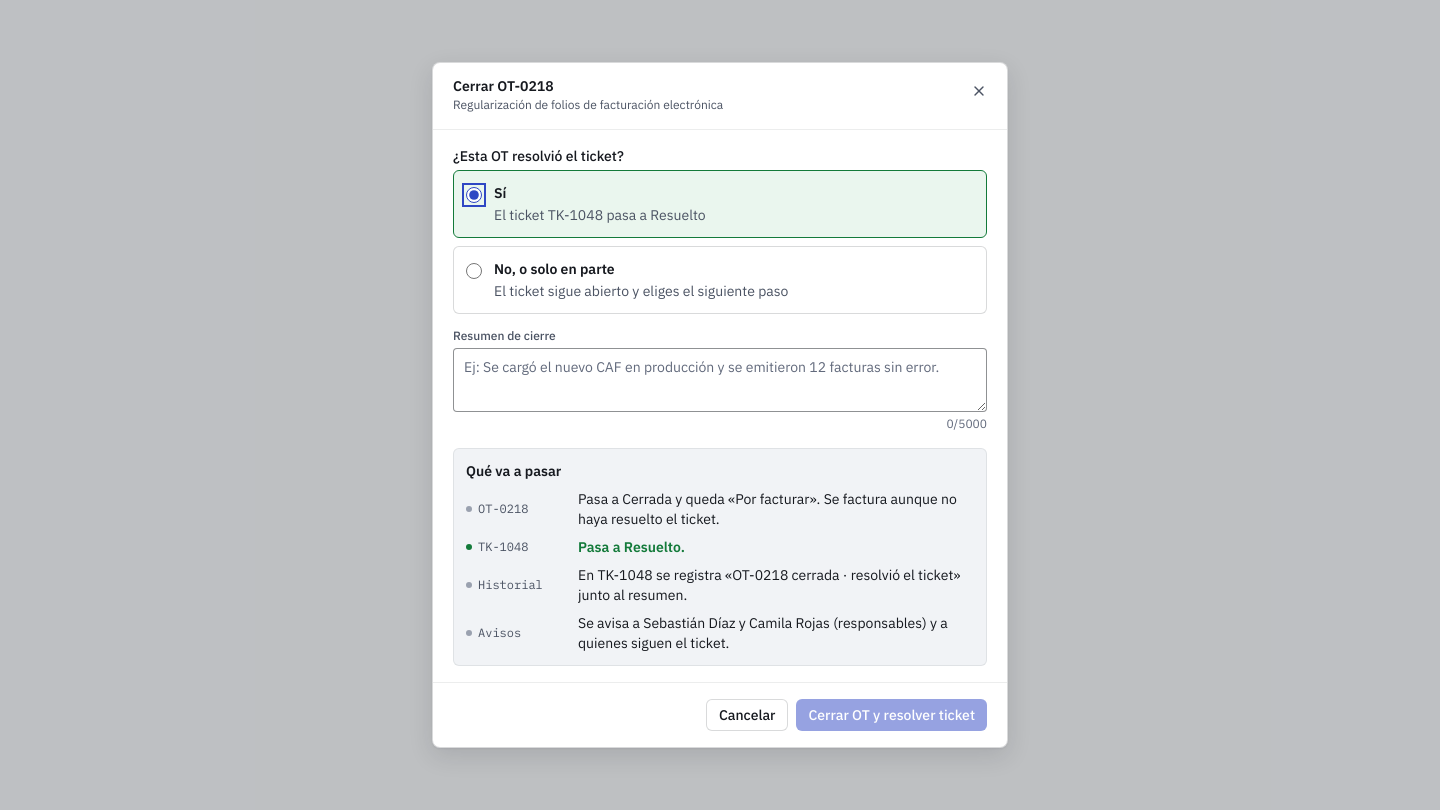
Test: "No" muestra el siguiente paso y el responsable; "Qué va a pasar" cambia con la opción
The image size is (1440, 810).
Click the radio button labelled "No, o solo en parte" at (474, 271), box [466,263,482,279]
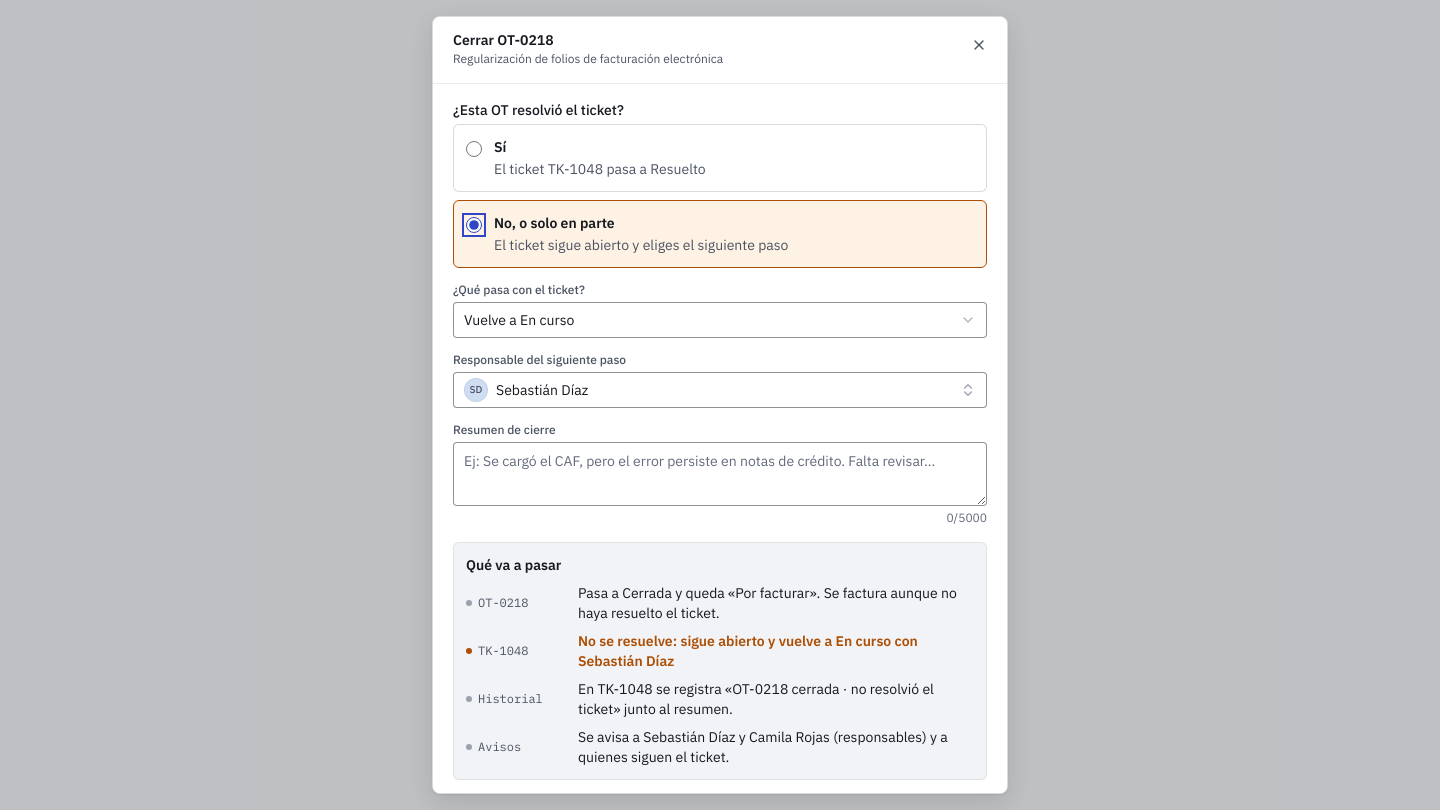
Expected: the dropdown named "¿Qué pasa con el ticket?" is shown
Expected: the dropdown named "Responsable del siguiente paso: Sebastián Díaz" is shown, [453,372,987,408]
Expected: the text "sigue abierto y vuelve a En curso con Sebastián Díaz" is shown, [578,632,918,670]
Click the dropdown named "¿Qué pasa con el ticket?" at (519, 320), box [453,302,987,338]
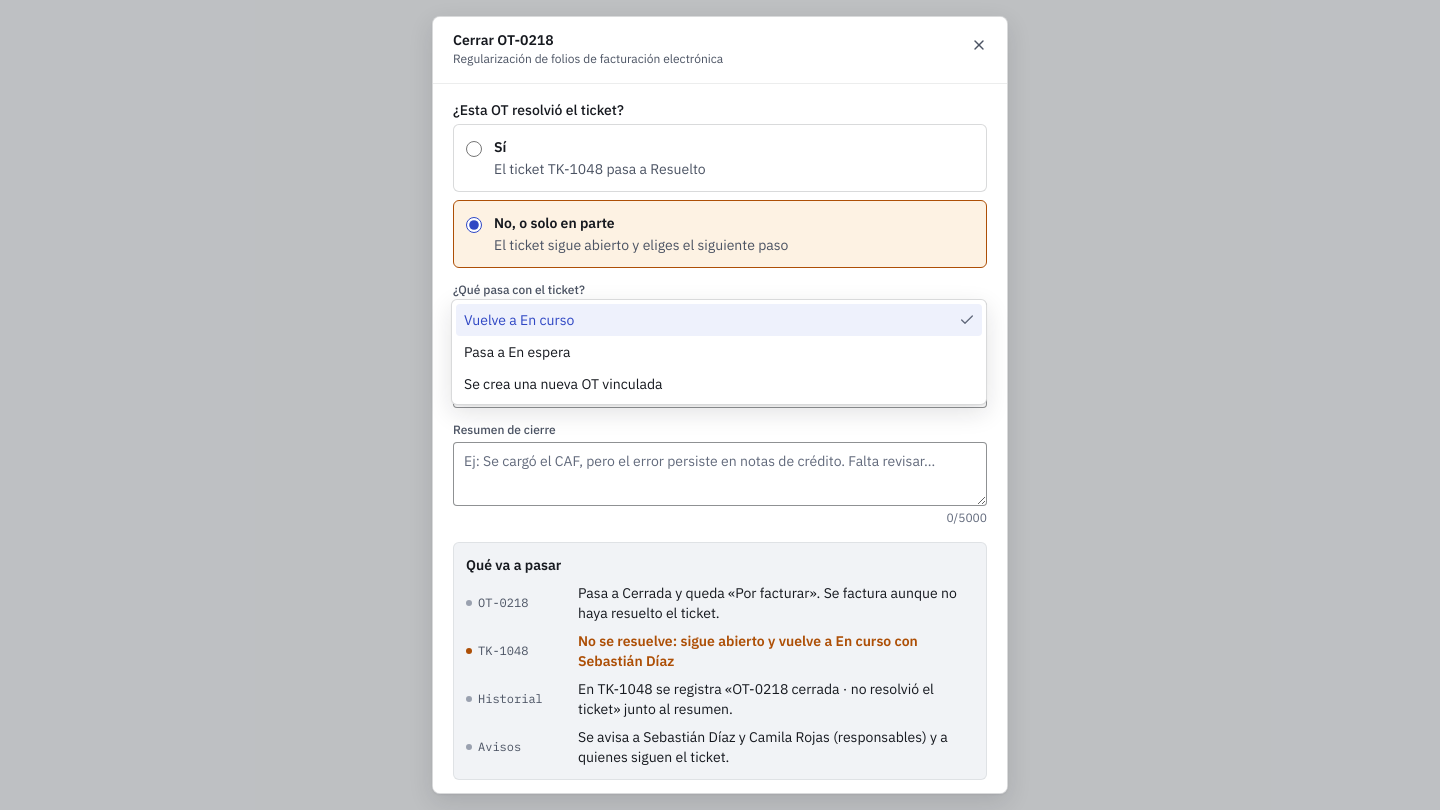
Click the option "Se crea una nueva OT vinculada" at (563, 384), box [464,375,663,393]
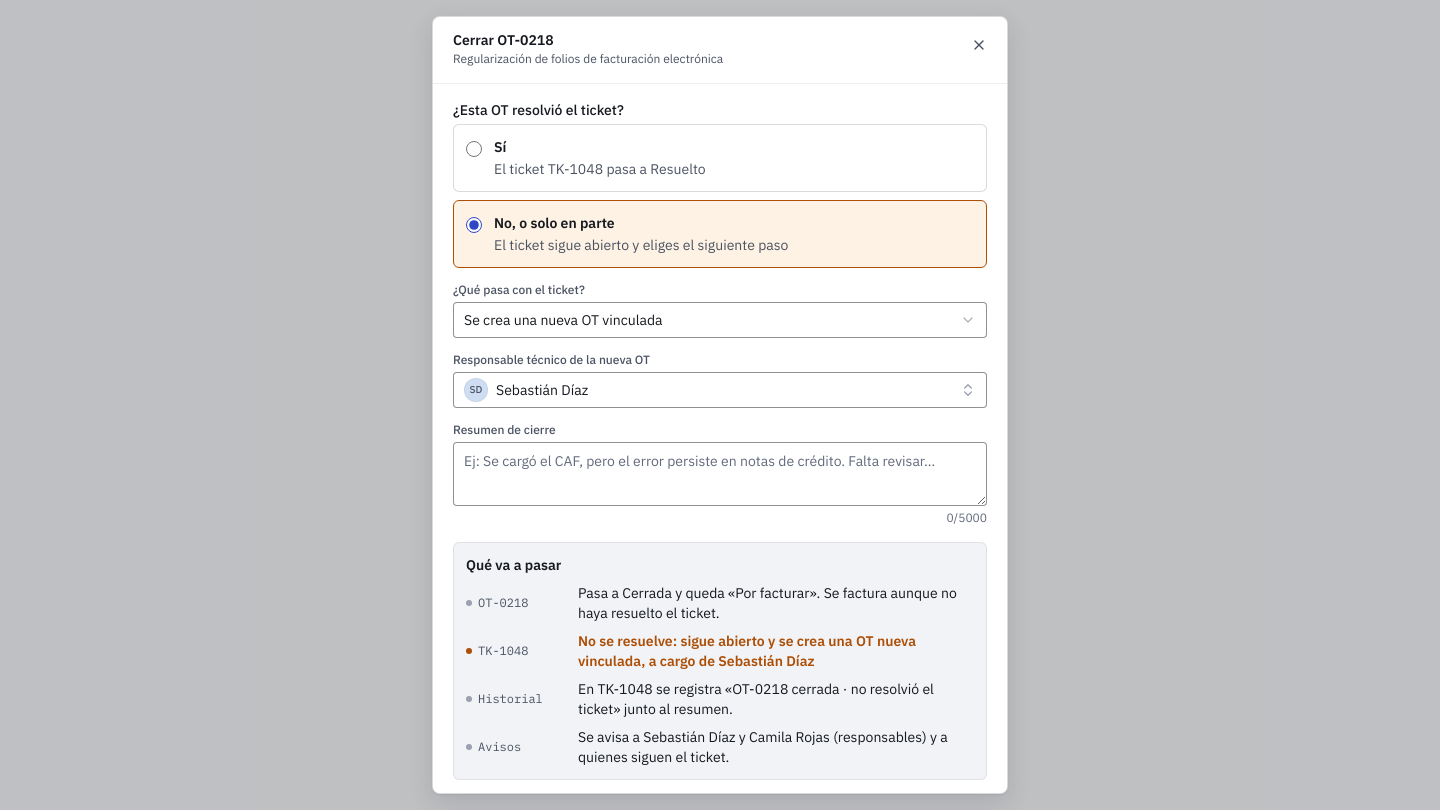
Expected: the text "se crea una OT nueva vinculada, a cargo de Sebastián Díaz" is shown, [578,632,916,670]
Expected: the text "Responsable técnico de la nueva OT" is shown, [453,352,650,367]
Click the dropdown named "¿Qué pasa con el ticket?" at (563, 320), box [453,302,987,338]
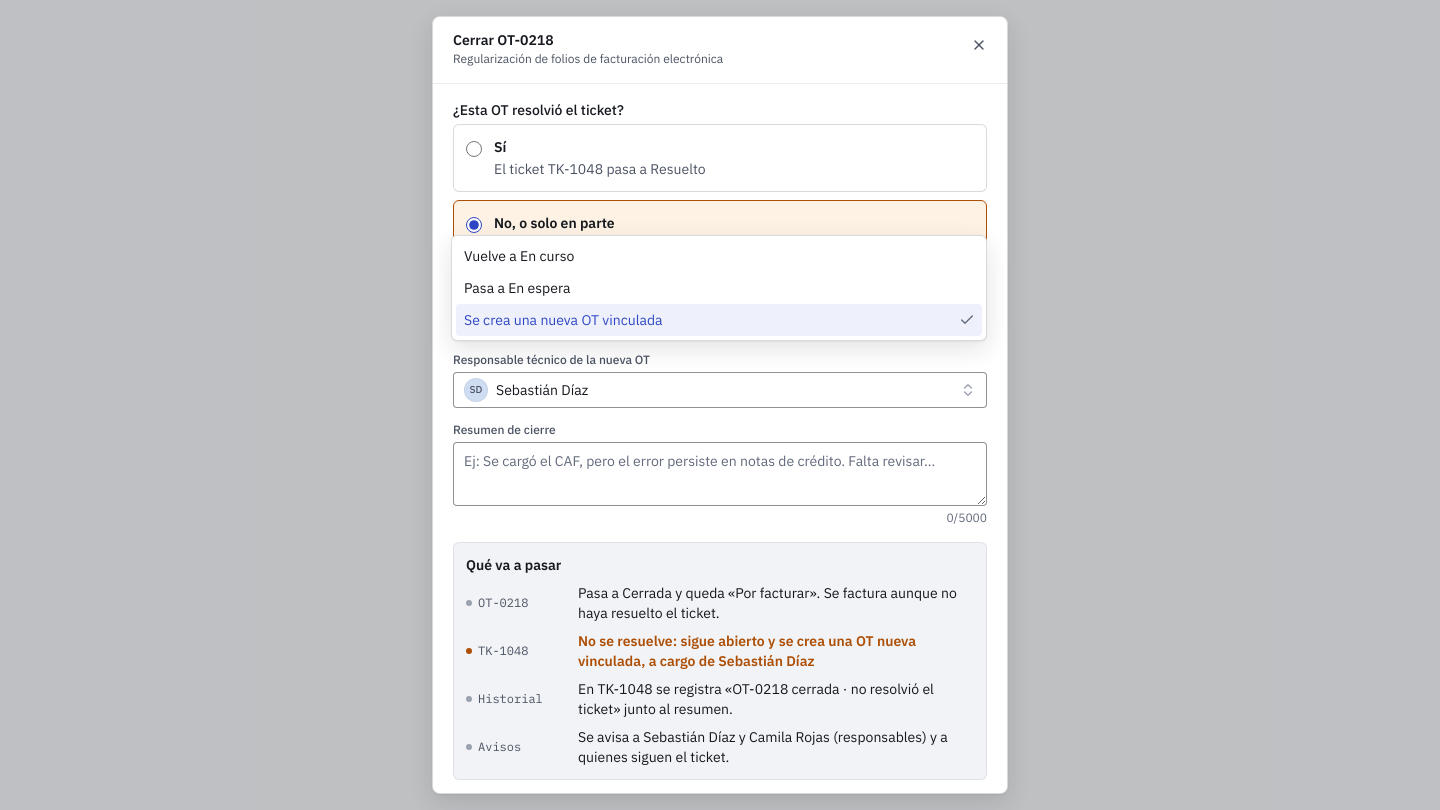
Click the option "Pasa a En espera" at (517, 288), box [464,279,570,297]
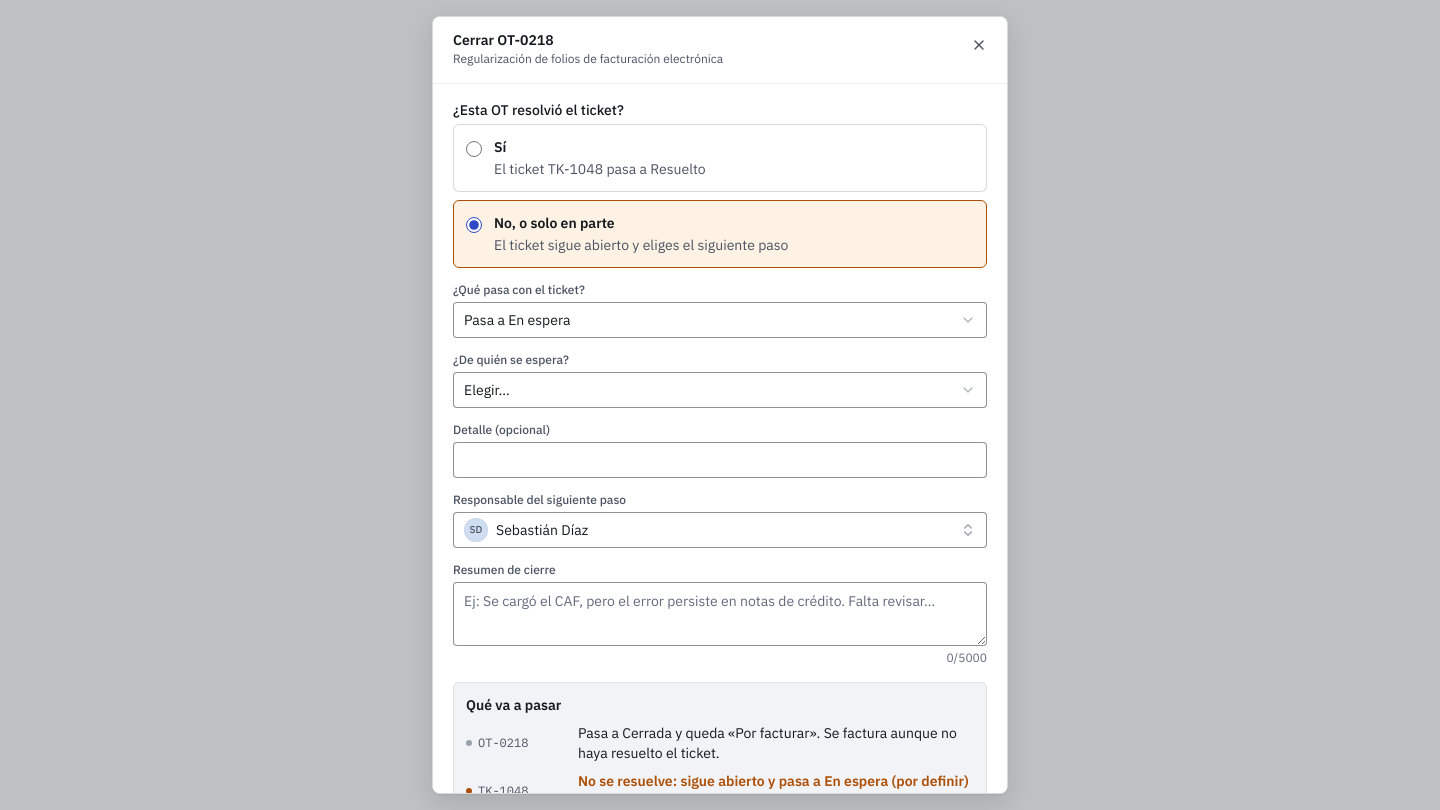
Expected: the dropdown named "¿De quién se espera?" is shown, [453,372,987,408]
